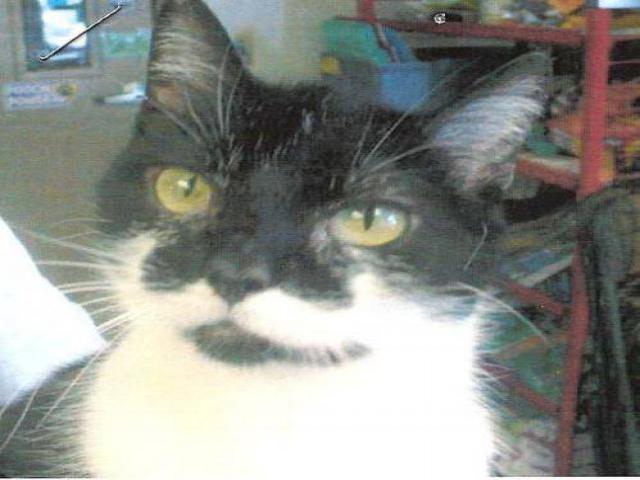cat: (21, 16, 559, 479)
